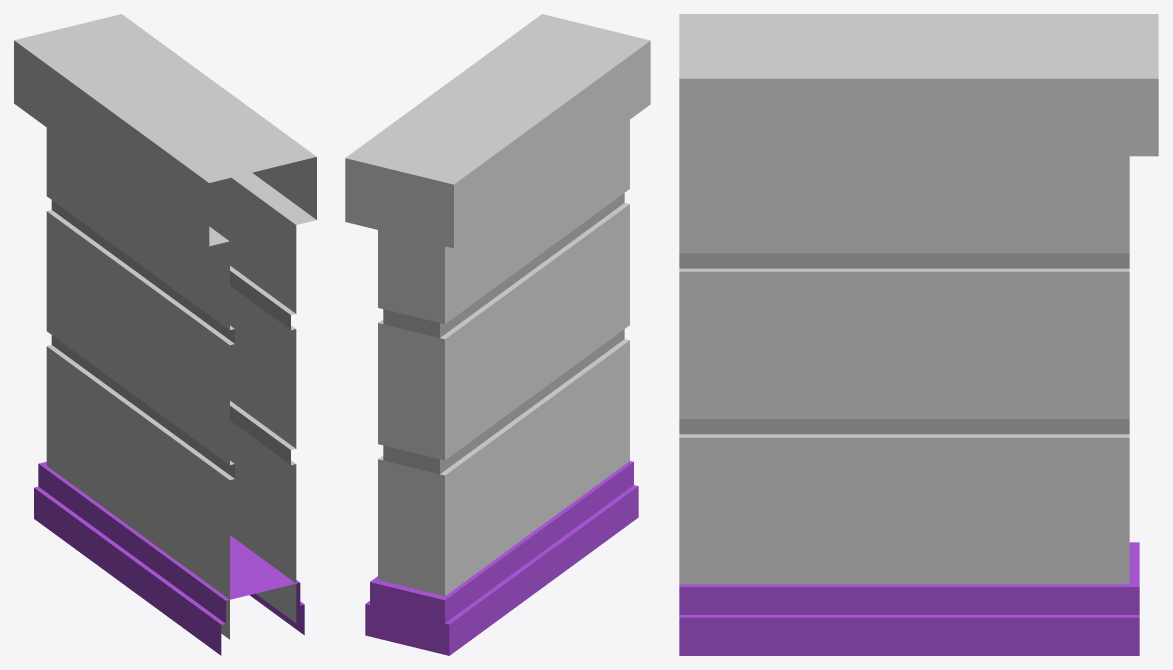
File: Halfwall.fbx
3 renders of one model, left to right at view 1: azimuth 30°, elevation 25°; view 2: azimuth 150°, elevation 25°; view 3: azimuth 270°, elevation 25°, orthographic. The views are drawn at different scales.
Parts seen in each view (by area): view 1: Base, UnderBase; view 2: Base, UnderBase; view 3: Base, UnderBase.
Part boxes in pixels (<box>): Base: <box>14,14,316,639</box>; UnderBase: <box>34,461,304,655</box>; Base: <box>345,14,650,595</box>; UnderBase: <box>365,461,638,655</box>; Base: <box>679,14,1158,584</box>; UnderBase: <box>679,542,1139,655</box>.
Bounding box in the file's own units: 1.04 × 4.41 × 3.28.
